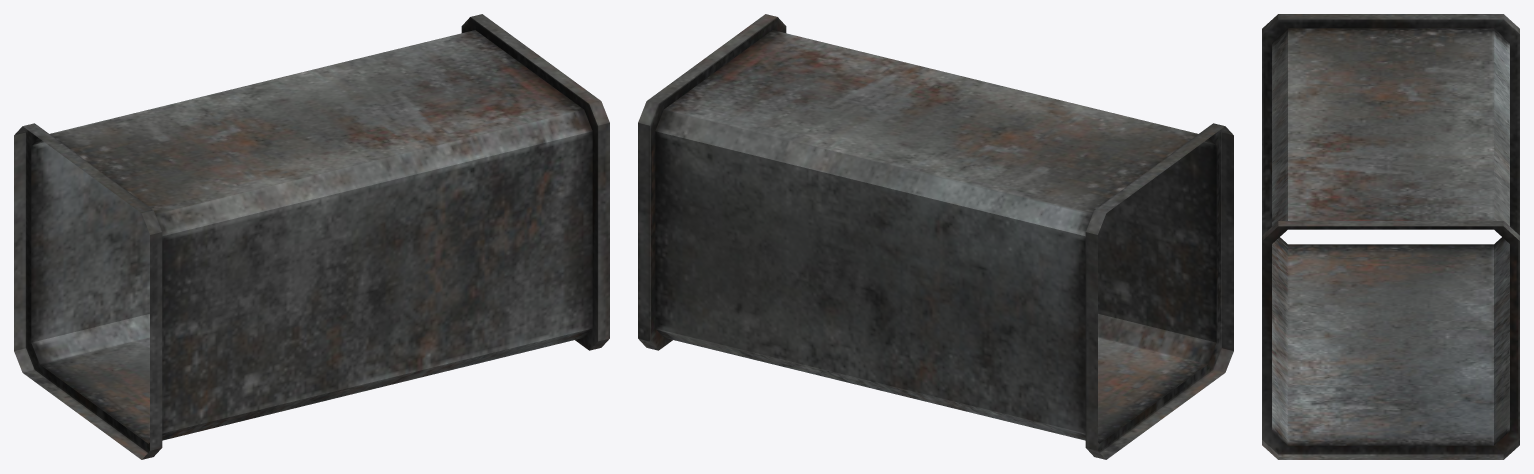
Rendered from Vent_M.FBX.
The picture shows the model from 3 angles, left to right: view 1: azimuth 30°, elevation 25°; view 2: azimuth 150°, elevation 25°; view 3: azimuth 270°, elevation 25°; orthographic projection. The views are drawn at different scales.
Parts seen in each view (by area): view 1: Vent_M; view 2: Vent_M; view 3: Vent_M.
Boxes of the visible parts, x1,y1,x2,y2 form: Vent_M: (14, 14, 609, 459); Vent_M: (638, 14, 1233, 459); Vent_M: (1262, 14, 1519, 459).
Bounding box in the file's own units: 156 × 79.96 × 79.96.
